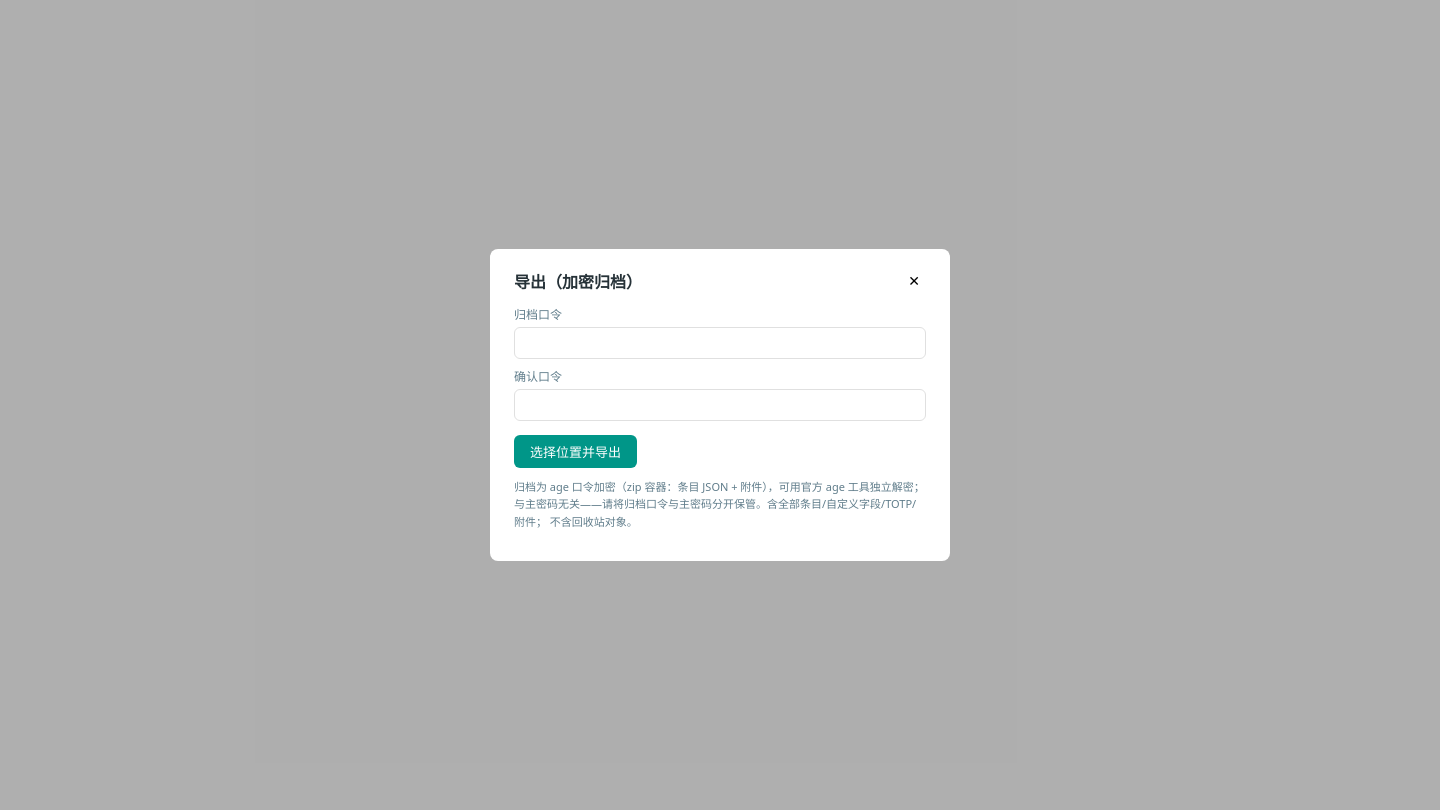
Test case: ExportDialog › 口令一致 → 导出并展示路径与摘要
Type "sp-test-only-pw" into the password field with id "exp-pw1" at {"x": 720, "y": 343}, box [514,327,926,359]
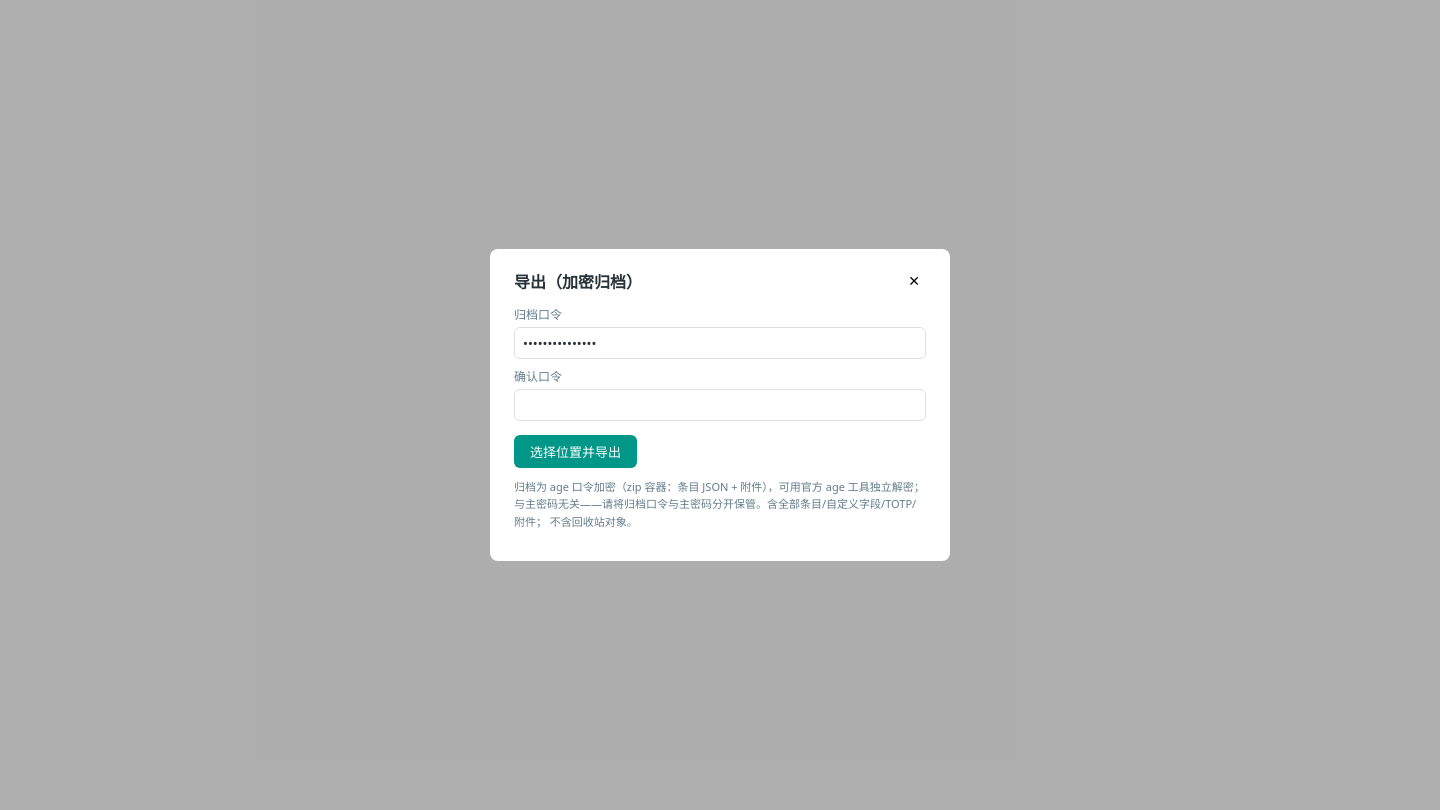
Type "sp-test-only-pw" into the password field with id "exp-pw2" at {"x": 720, "y": 405}, box [514,389,926,421]
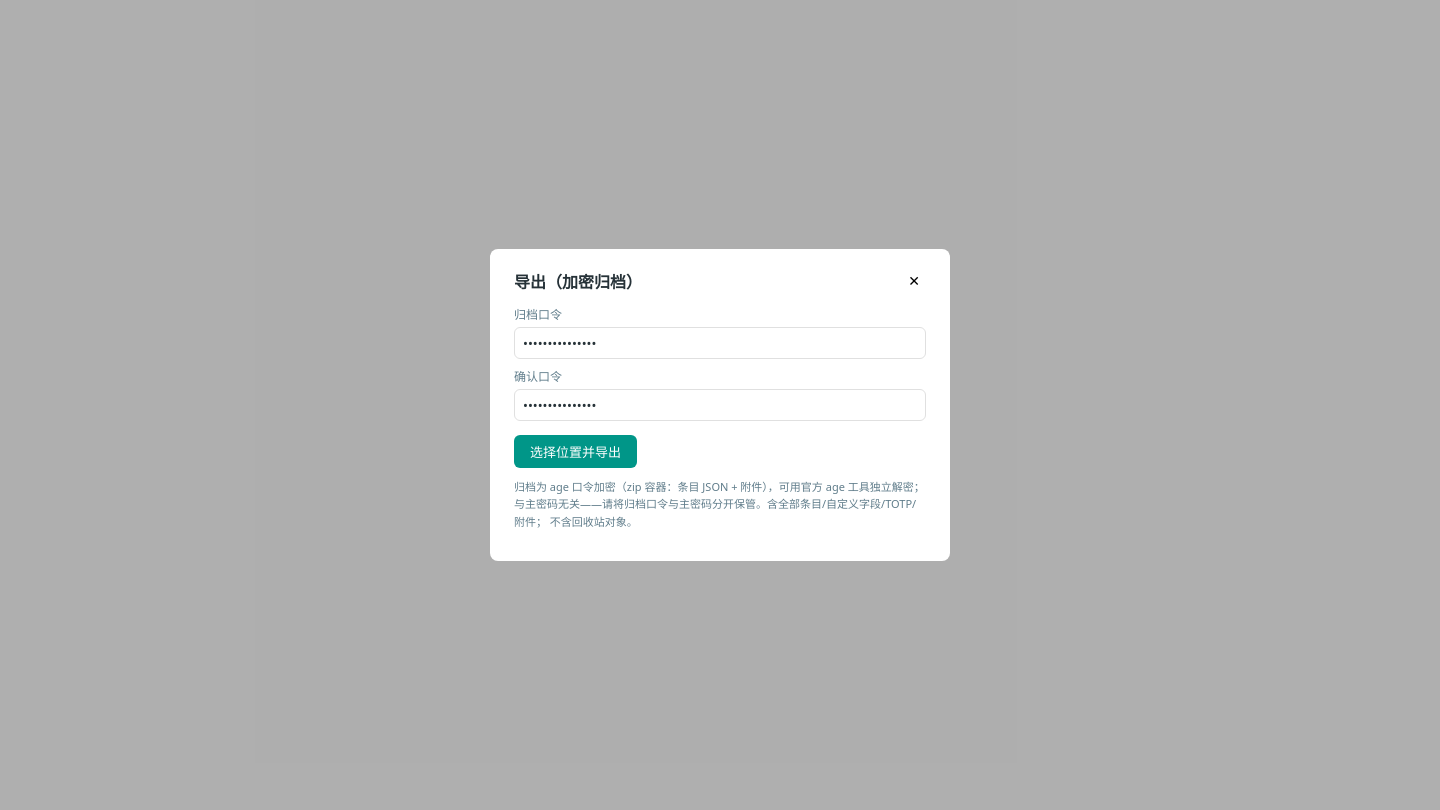
Click the button "选择位置并导出" at {"x": 576, "y": 451}, box [514,435,637,468]
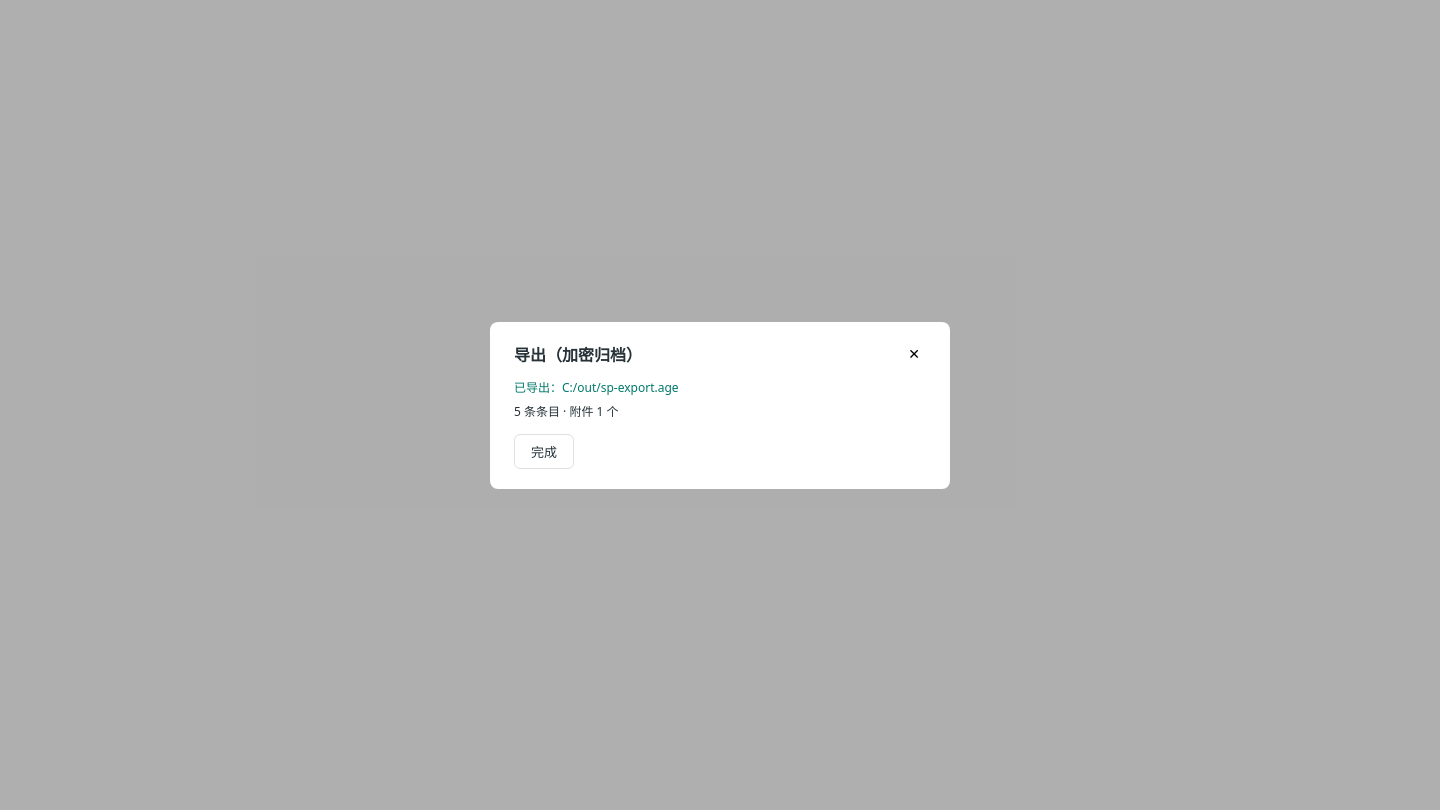
Expected: the text "C:/out/sp-export.age" is shown, [514,378,679,396]
Expected: the text "5 条条目" is shown, [514,402,618,420]
